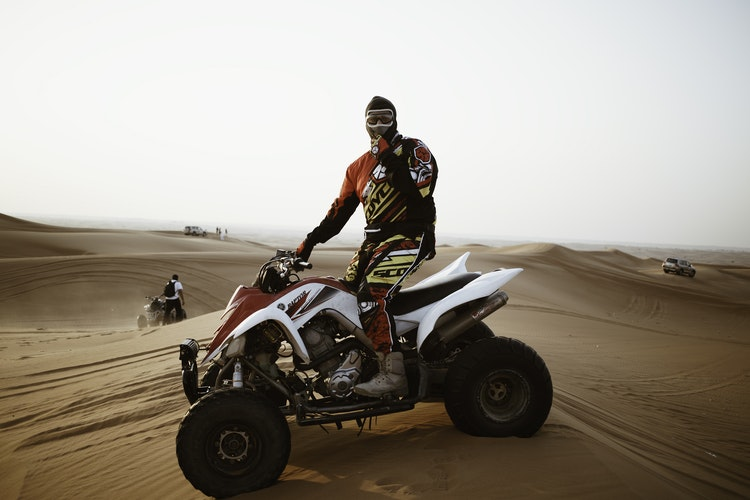helmet: (361, 91, 398, 142)
